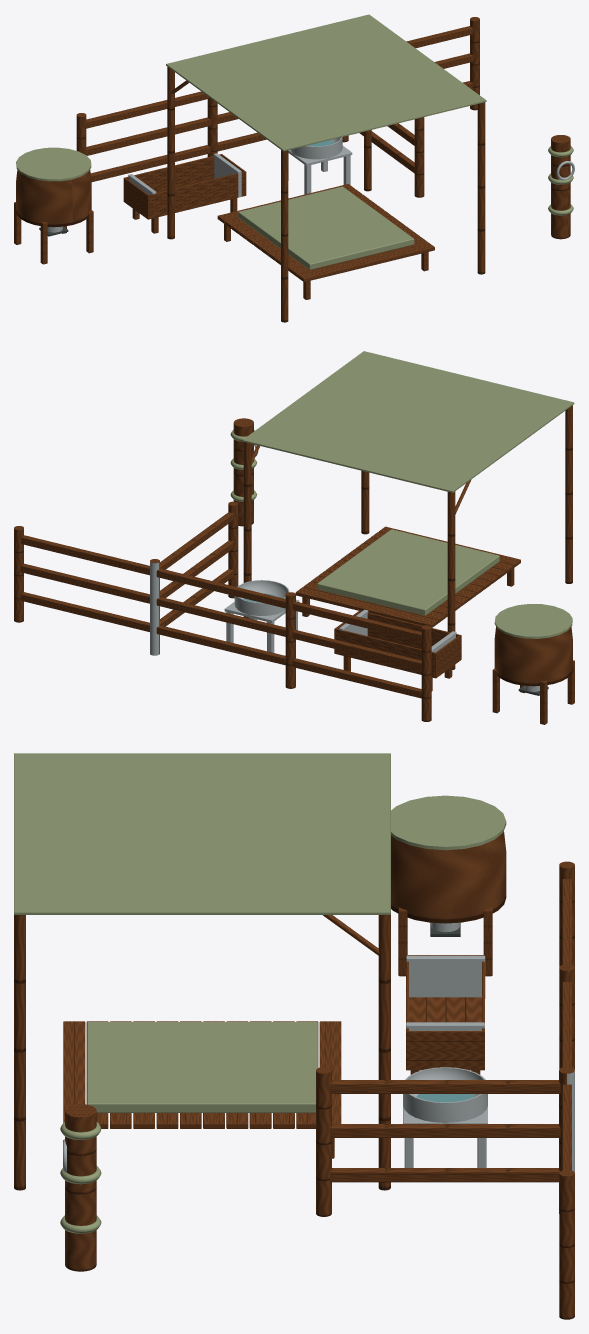
The model's file is creature-husbandry-and-transport-husband-c7dbb5ef-starter-scene__24033.glb.
The picture shows the model from 3 angles, top to bottom: view 1: azimuth 30°, elevation 25°; view 2: azimuth 150°, elevation 25°; view 3: azimuth 270°, elevation 25°; orthographic projection. The views are drawn at different scales.
Visible parts, largest first — view 1: 005-shade-sail-frame/1, 006-resting-platform/1, 005-shade-sail-frame/0, 003-deep-feed-trough/0, 007-feed-storage-hopper/0, 000-pen-rail-2m/0, 006-resting-platform/0, 002-pen-corner/1, 007-feed-storage-hopper/3, 008-training-post/0, 004-water-bowl-stand/0, 001-pen-rail-2m/0 (+2 smaller); view 2: 005-shade-sail-frame/1, 006-resting-platform/1, 002-pen-corner/1, 000-pen-rail-2m/0, 001-pen-rail-2m/0, 005-shade-sail-frame/0, 007-feed-storage-hopper/0, 006-resting-platform/0, 003-deep-feed-trough/0, 007-feed-storage-hopper/3, 004-water-bowl-stand/0, 008-training-post/0 (+2 smaller); view 3: 005-shade-sail-frame/1, 006-resting-platform/1, 002-pen-corner/1, 007-feed-storage-hopper/0, 006-resting-platform/0, 005-shade-sail-frame/0, 003-deep-feed-trough/0, 007-feed-storage-hopper/3, 008-training-post/0, 003-deep-feed-trough/1, 004-water-bowl-stand/0, 000-pen-rail-2m/0 (+2 smaller).
Part boxes in pixels (left/top/right/bottom): 005-shade-sail-frame/1: left=166, top=14, right=486, bottom=151; 006-resting-platform/1: left=238, top=186, right=414, bottom=269; 005-shade-sail-frame/0: left=167, top=67, right=485, bottom=322; 003-deep-feed-trough/0: left=123, top=154, right=246, bottom=233; 007-feed-storage-hopper/0: left=14, top=169, right=93, bottom=264; 000-pen-rail-2m/0: left=76, top=91, right=217, bottom=181; 006-resting-platform/0: left=217, top=184, right=434, bottom=299; 002-pen-corner/1: left=359, top=17, right=479, bottom=197; 007-feed-storage-hopper/3: left=16, top=147, right=91, bottom=181; 008-training-post/0: left=551, top=135, right=570, bottom=239; 004-water-bowl-stand/0: left=288, top=137, right=352, bottom=194; 001-pen-rail-2m/0: left=207, top=98, right=348, bottom=156; 005-shade-sail-frame/1: left=242, top=351, right=574, bottom=492; 006-resting-platform/1: left=317, top=529, right=499, bottom=615; 002-pen-corner/1: left=14, top=501, right=238, bottom=631; 000-pen-rail-2m/0: left=285, top=595, right=431, bottom=721; 001-pen-rail-2m/0: left=150, top=559, right=295, bottom=688; 005-shade-sail-frame/0: left=243, top=405, right=572, bottom=669; 007-feed-storage-hopper/0: left=492, top=626, right=574, bottom=724; 006-resting-platform/0: left=295, top=526, right=520, bottom=627; 003-deep-feed-trough/0: left=334, top=610, right=461, bottom=691; 007-feed-storage-hopper/3: left=494, top=604, right=572, bottom=638; 004-water-bowl-stand/0: left=224, top=580, right=299, bottom=652; 008-training-post/0: left=233, top=418, right=253, bottom=526; 005-shade-sail-frame/1: left=14, top=753, right=390, bottom=914; 006-resting-platform/1: left=87, top=1022, right=317, bottom=1112; 002-pen-corner/1: left=316, top=1067, right=574, bottom=1319; 007-feed-storage-hopper/0: left=391, top=831, right=506, bottom=976; 006-resting-platform/0: left=63, top=1021, right=341, bottom=1158; 005-shade-sail-frame/0: left=14, top=915, right=390, bottom=1190; 003-deep-feed-trough/0: left=406, top=955, right=484, bottom=1074; 007-feed-storage-hopper/3: left=391, top=795, right=506, bottom=850; 008-training-post/0: left=65, top=1104, right=96, bottom=1271; 003-deep-feed-trough/1: left=406, top=955, right=485, bottom=1030; 004-water-bowl-stand/0: left=403, top=1067, right=487, bottom=1167; 000-pen-rail-2m/0: left=559, top=861, right=574, bottom=1069.
Size of the model in its own units: 7.57 by 2.53 by 4.62.
Materials: 5 (1 with a texture image).
